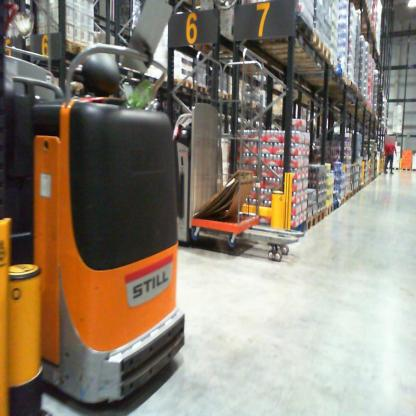pallet: (240, 14, 317, 45), (254, 31, 323, 60), (273, 46, 333, 70), (293, 62, 345, 81), (302, 71, 349, 90), (291, 59, 339, 77), (55, 31, 76, 56), (72, 43, 96, 63), (286, 221, 308, 234), (302, 214, 319, 230), (316, 208, 326, 223), (326, 205, 334, 219), (391, 128, 403, 137), (399, 166, 413, 173), (332, 201, 340, 210), (340, 196, 346, 206), (391, 166, 400, 172), (384, 165, 391, 171), (411, 168, 415, 172)
pallet_truck: (4, 3, 202, 404)
